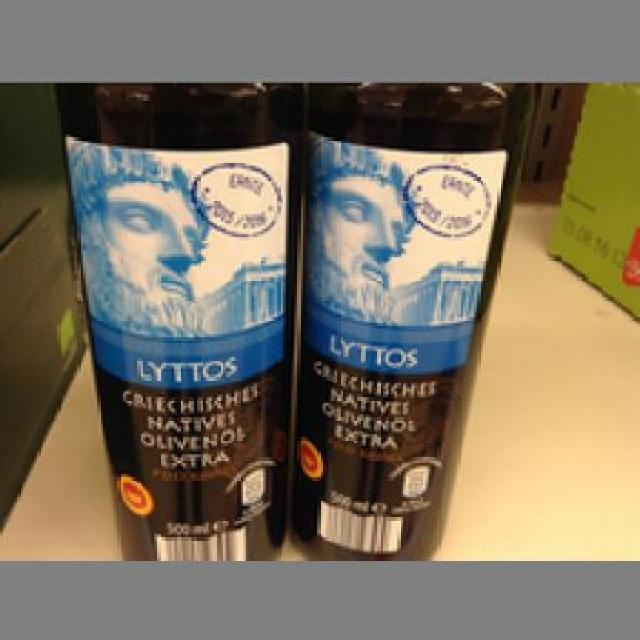Oil: (48, 77, 294, 557), (292, 80, 532, 557)
